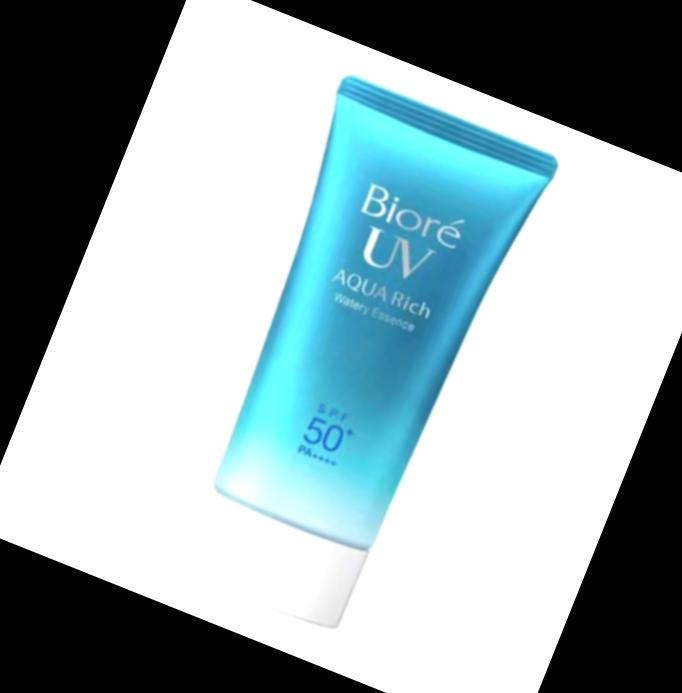cosmetic: (146, 69, 562, 648)
